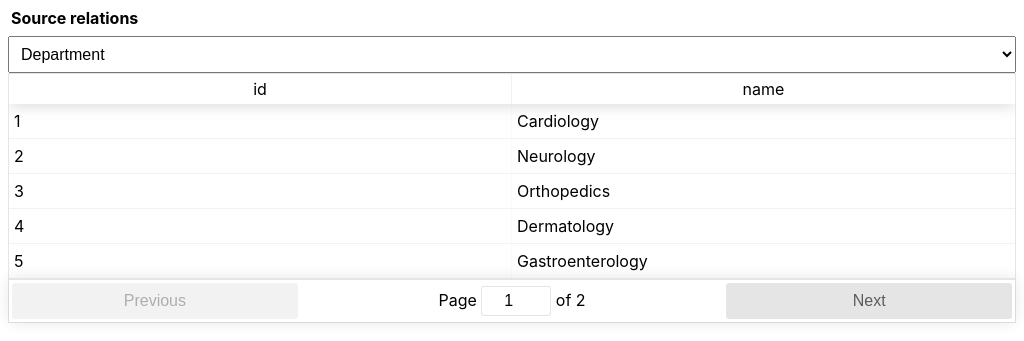
Test: can change tables browser
Change the table
Select "Patient" in the dropdown with class "browserSelect" at [512, 54], box [8,36,1016,73]
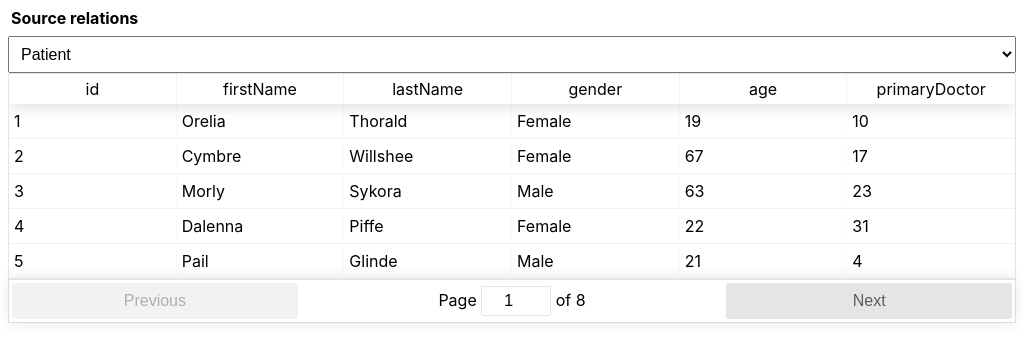
Result: the text "firstName" is shown at [223,79,297,99]
Result: the text "lastName" is shown at [392,79,463,99]
Result: the text "gender" is shown at [568,79,622,99]
